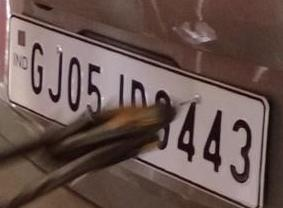0: (64, 54, 82, 113)
3: (228, 117, 251, 183)
4: (201, 108, 223, 173), (176, 101, 197, 163)
5: (85, 60, 102, 118)
G: (28, 40, 45, 94)
J: (46, 49, 63, 103)
